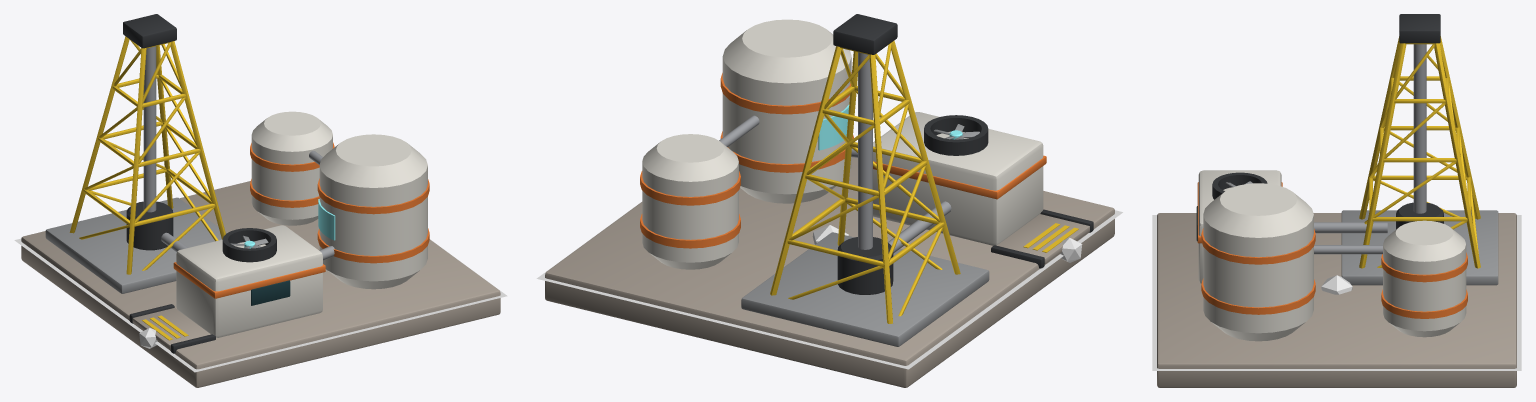
File: water_extractor_2x2.gltf
The picture shows the model from 3 angles, left to right: view 1: azimuth 30°, elevation 25°; view 2: azimuth 150°, elevation 25°; view 3: azimuth 270°, elevation 25°; orthographic projection. The views are drawn at different scales.
Parts seen in each view (by area): view 1: WaterExtractor, %V%AnchorOut+, %P%Footprint; view 2: WaterExtractor, %V%AnchorOut+, %P%Footprint; view 3: WaterExtractor, %P%Footprint, %P%Center.
Part boxes in pixels (box(x1,y1,x2,y2)): WaterExtractor: box(21, 14, 500, 387); %V%AnchorOut+: box(129, 304, 215, 353); %P%Footprint: box(14, 238, 507, 372); WaterExtractor: box(545, 14, 1114, 387); %V%AnchorOut+: box(991, 209, 1093, 268); %P%Footprint: box(536, 202, 1122, 369); WaterExtractor: box(1157, 14, 1516, 387); %P%Footprint: box(1152, 215, 1521, 370); %P%Center: box(1321, 275, 1352, 294).
Size of the model in its own units: 4.12 by 3.06 by 4.
